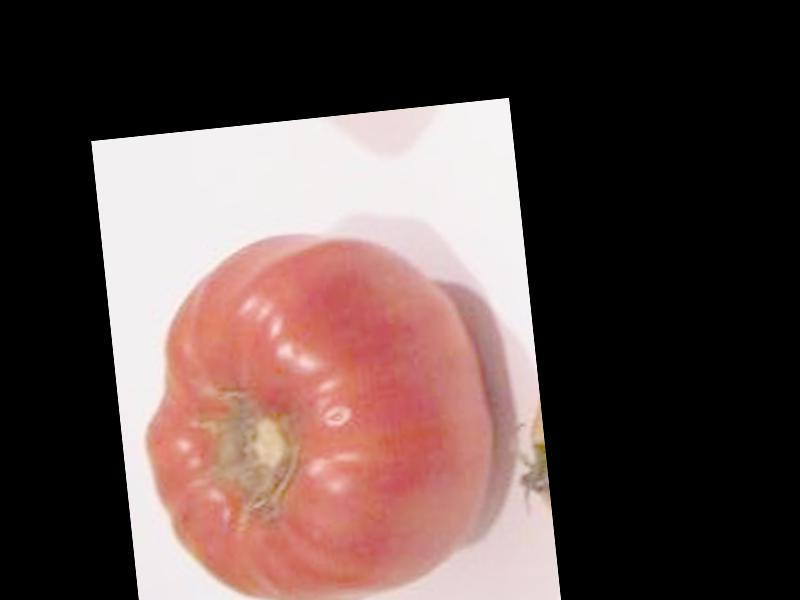Tomato: (128, 221, 502, 600)
